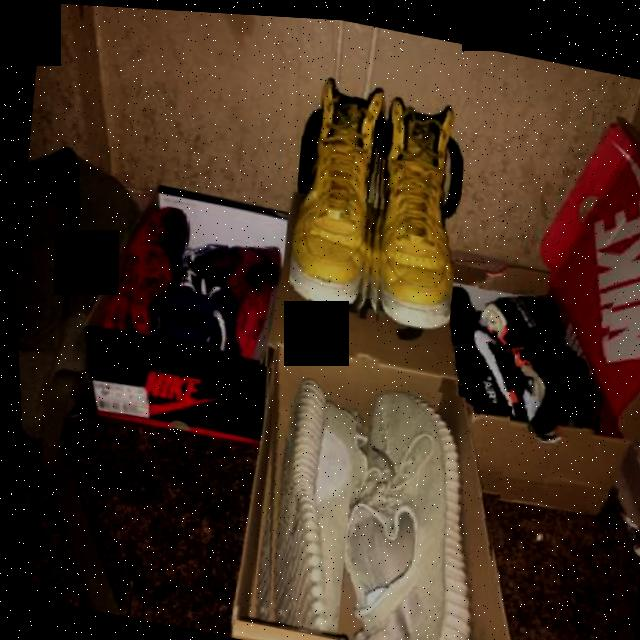shoe: (317, 370, 518, 640), (232, 359, 383, 640), (272, 64, 400, 330), (349, 85, 478, 348), (455, 266, 617, 443), (95, 191, 231, 355), (420, 261, 552, 421), (168, 210, 292, 367)
